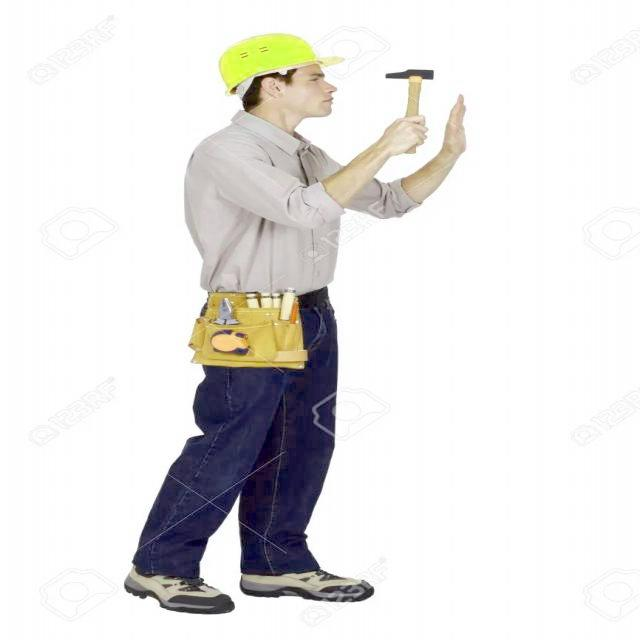hammer: (368, 46, 447, 162)
